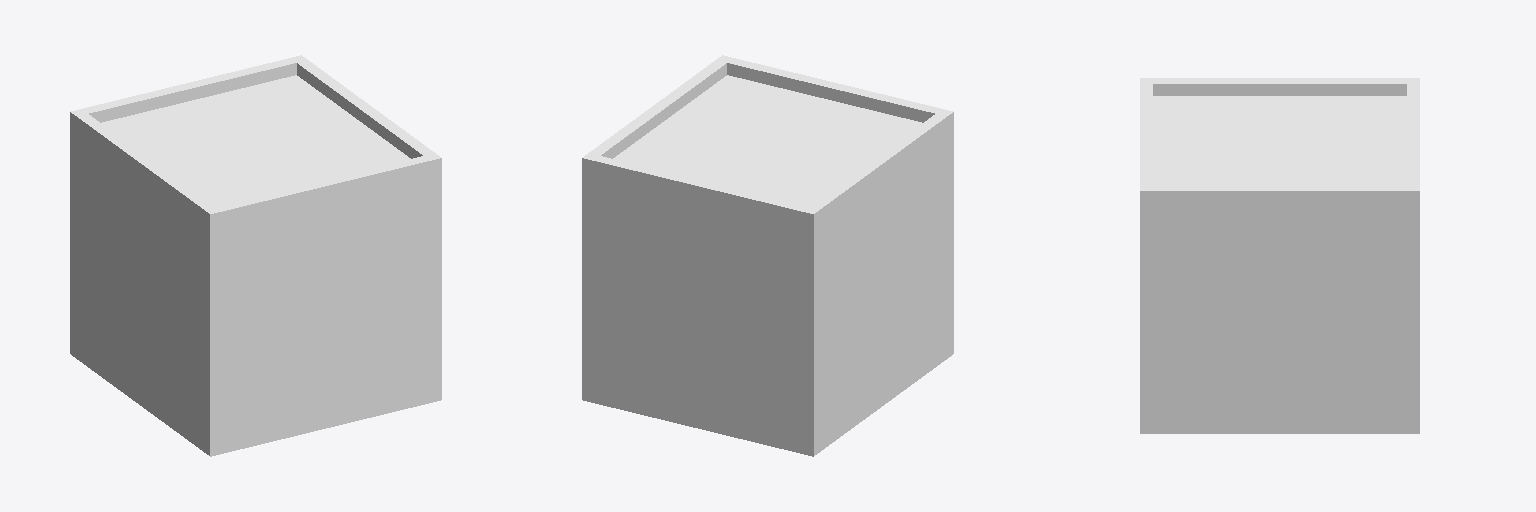
File: WallCorner.obj
3 views of the same model, side by side, from view 1: azimuth 30°, elevation 25°; view 2: azimuth 150°, elevation 25°; view 3: azimuth 270°, elevation 25° (orthographic).
Bounding box in the file's own units: 20 × 20 × 21.